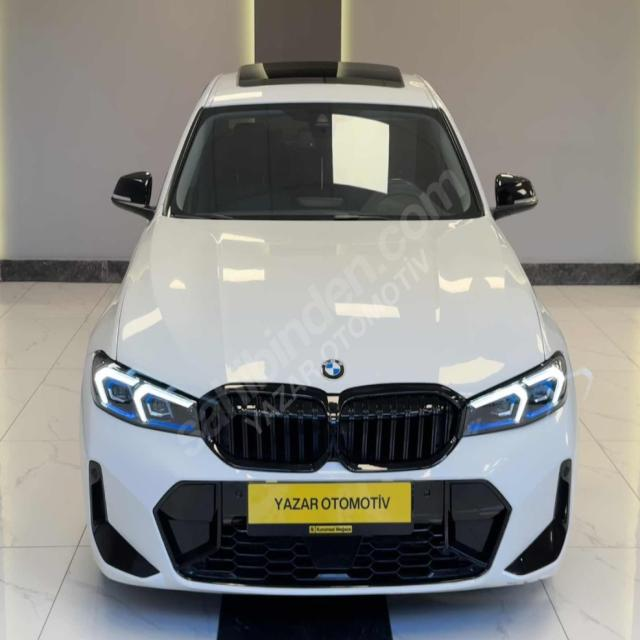bmw: (320, 356, 348, 382)
